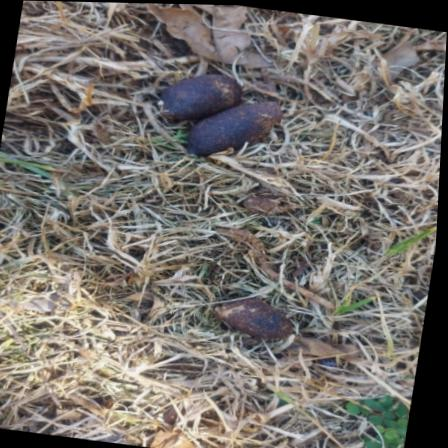dog-poop: (148, 62, 298, 179), (212, 282, 308, 345)
